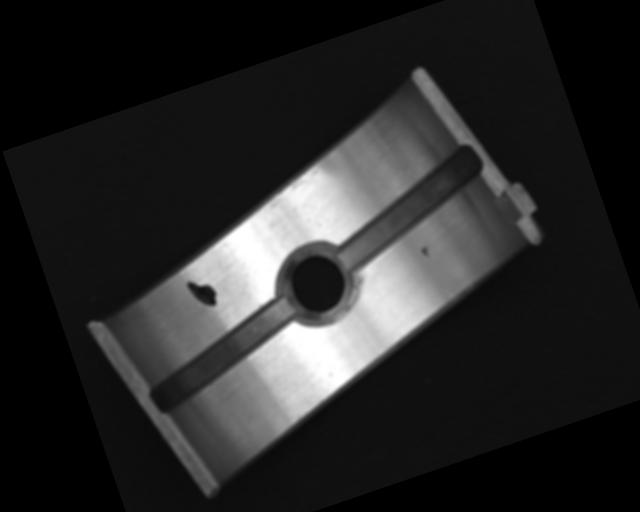blot: (185, 274, 220, 313)
bruise: (419, 244, 431, 259)
gap: (318, 145, 497, 274), (132, 297, 311, 418)
hole: (270, 237, 363, 335)
